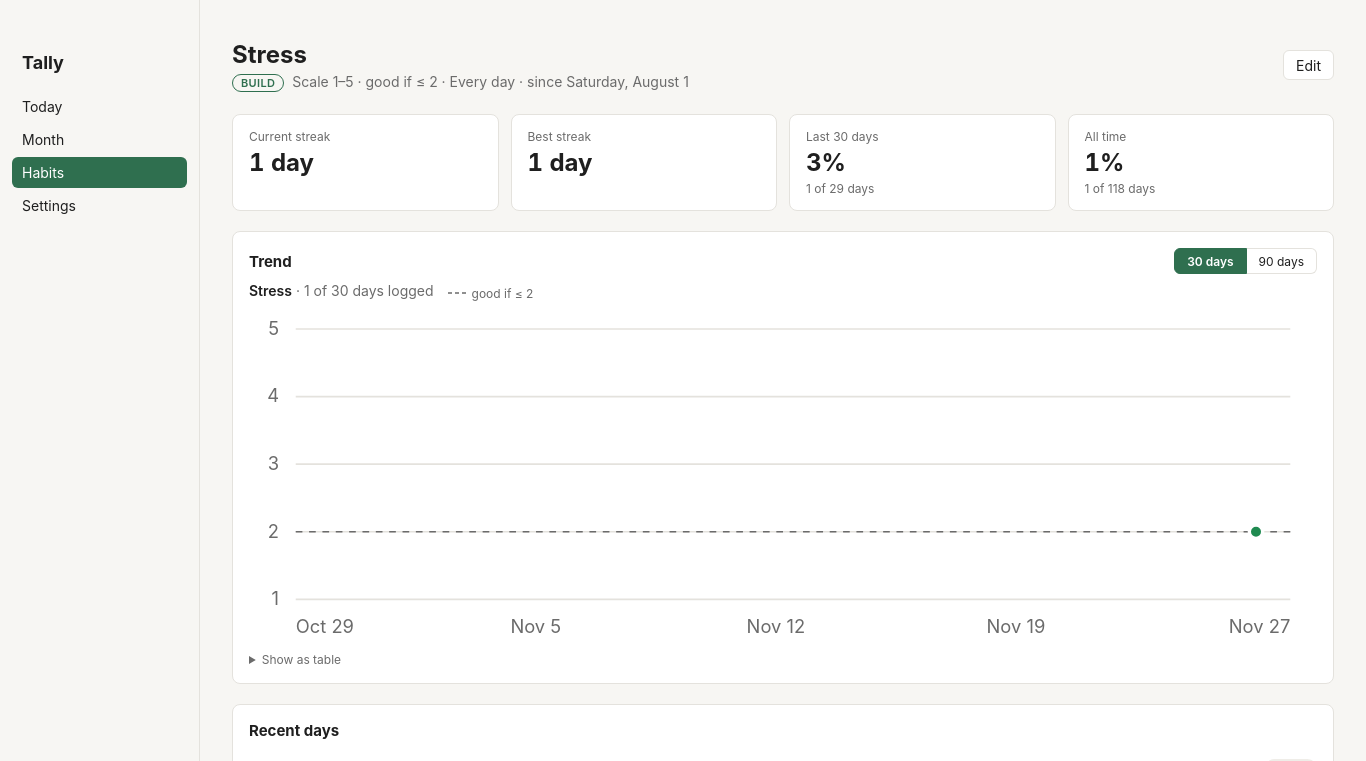
HabitDetailPage › shows a trend chart for scale habits and switches range
Expected: the picture named "Stress, 1 of 30 days logged" is shown, [249,308,1317,642]
Expected: the text "good if ≤ 2" is shown, [448,286,533,300]
Click the button "90 days" at coordinates (1282, 261), box [1247,248,1317,274]
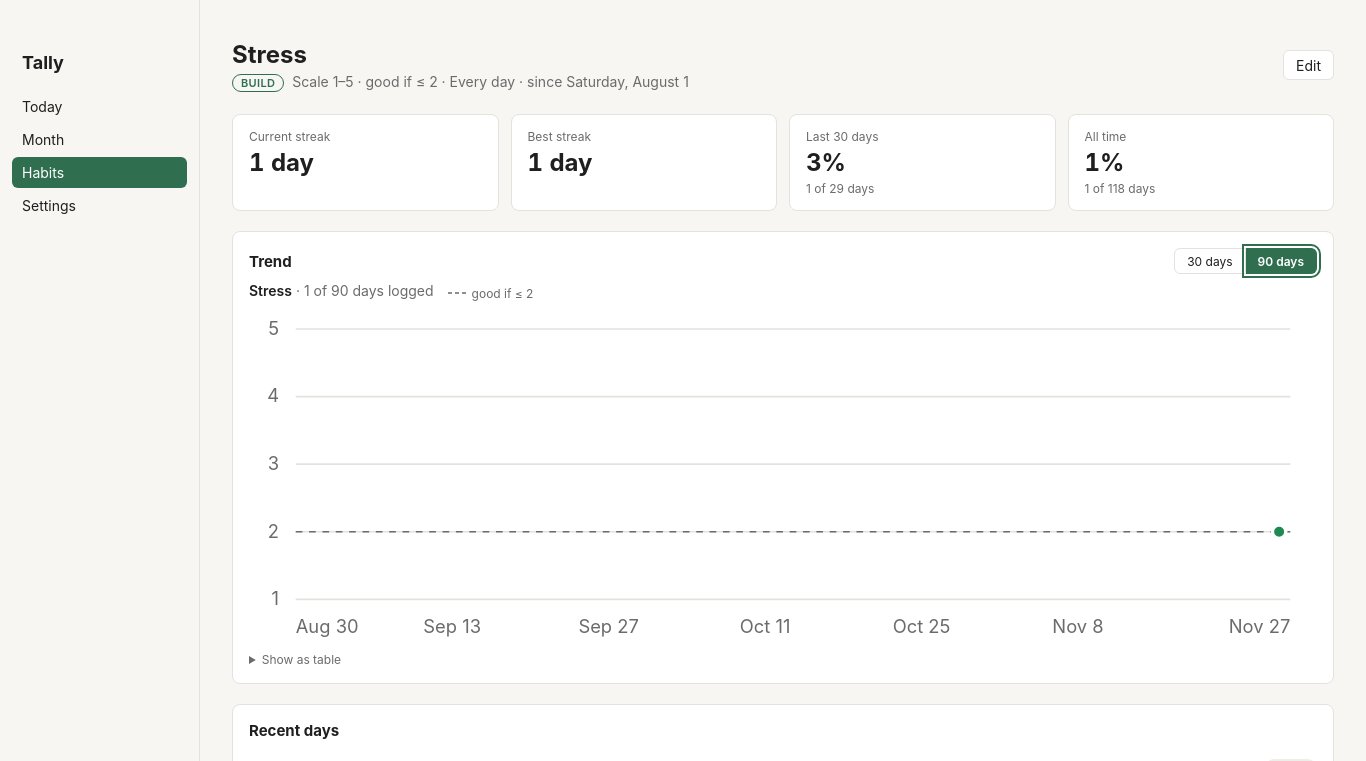
Now the picture named "Stress, 1 of 90 days logged" is shown, box [249,308,1317,642]
